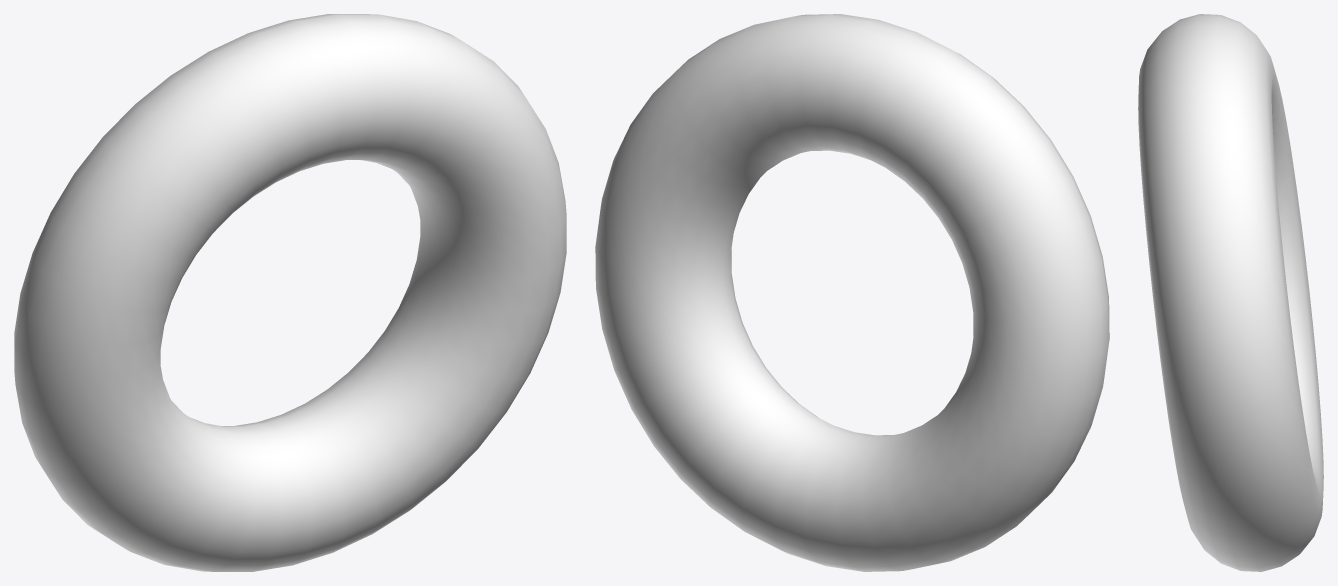
The picture shows the model from 3 angles, left to right: view 1: azimuth 30°, elevation 25°; view 2: azimuth 150°, elevation 25°; view 3: azimuth 270°, elevation 25°; orthographic projection. The views are drawn at different scales.
Parts seen in each view (by area): view 1: node_id56; view 2: node_id56; view 3: node_id56.
Part boxes in pixels (x1,y1,x2,y2): node_id56: [14, 14, 566, 571]; node_id56: [595, 14, 1109, 571]; node_id56: [1138, 14, 1323, 571].
Size of the model in its own units: 0.512 by 0.5082 by 0.1693.
Materials: 1 (1 with a texture image).
